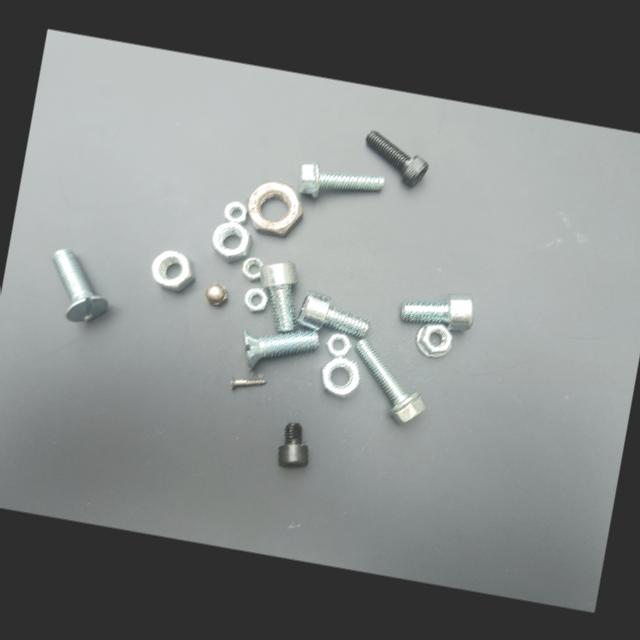bolt: (354, 338, 425, 423), (52, 248, 107, 321), (296, 289, 368, 338), (365, 130, 427, 186), (243, 327, 318, 368), (298, 162, 383, 197), (259, 261, 296, 332), (400, 293, 472, 329), (277, 422, 307, 466), (230, 375, 265, 388)
nuts: (246, 181, 302, 236), (151, 250, 194, 291), (211, 221, 251, 262), (321, 356, 358, 395), (415, 323, 451, 357), (243, 287, 268, 311), (326, 332, 350, 356), (224, 201, 247, 224), (241, 256, 262, 281), (205, 283, 227, 305)
